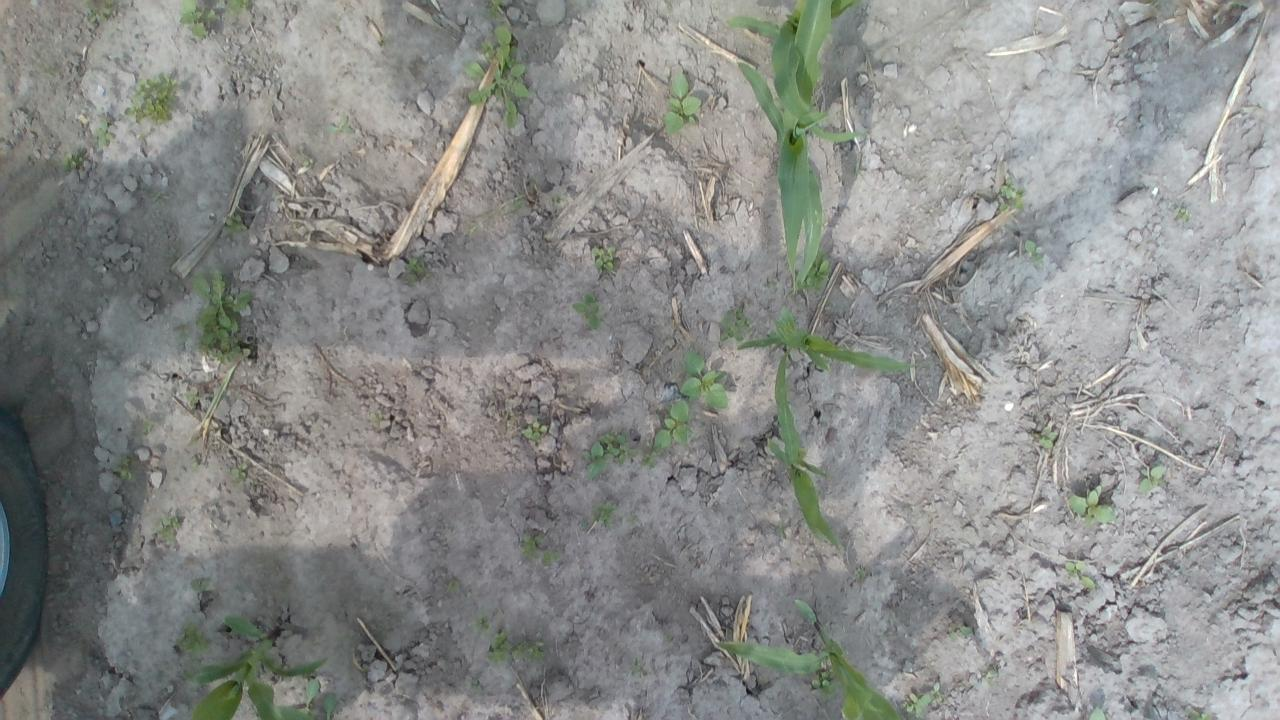Maize: (734, 312, 919, 554), (736, 0, 826, 295), (716, 599, 900, 720), (726, 0, 859, 144), (187, 615, 328, 720)
Weeds: (464, 26, 532, 130), (191, 268, 252, 352), (678, 350, 732, 409), (122, 71, 176, 124), (663, 72, 700, 136), (650, 398, 691, 454), (1068, 485, 1118, 526), (178, 0, 218, 37), (302, 679, 336, 719), (573, 292, 602, 332), (600, 430, 634, 463), (720, 305, 751, 341), (178, 625, 211, 655), (584, 441, 609, 480), (1066, 562, 1093, 590), (812, 670, 838, 698), (592, 244, 614, 276), (83, 0, 115, 21), (1140, 466, 1168, 490), (902, 690, 926, 718), (997, 184, 1020, 212), (522, 420, 550, 443), (491, 629, 510, 662), (327, 114, 355, 136), (808, 256, 827, 286), (1032, 428, 1058, 447), (160, 516, 182, 537), (113, 458, 132, 480), (62, 150, 85, 168), (225, 0, 254, 14), (520, 534, 536, 559), (92, 131, 115, 146), (406, 262, 424, 281), (526, 643, 546, 659), (225, 216, 245, 232), (638, 455, 656, 470), (960, 626, 979, 640), (186, 390, 200, 408), (488, 0, 502, 18), (1090, 705, 1106, 720), (598, 507, 614, 522), (474, 616, 488, 632), (231, 464, 247, 478), (1024, 240, 1038, 256), (542, 550, 556, 566), (192, 578, 208, 591), (928, 680, 941, 696), (512, 640, 522, 659), (1177, 208, 1190, 221), (448, 580, 460, 594), (856, 569, 867, 580)
